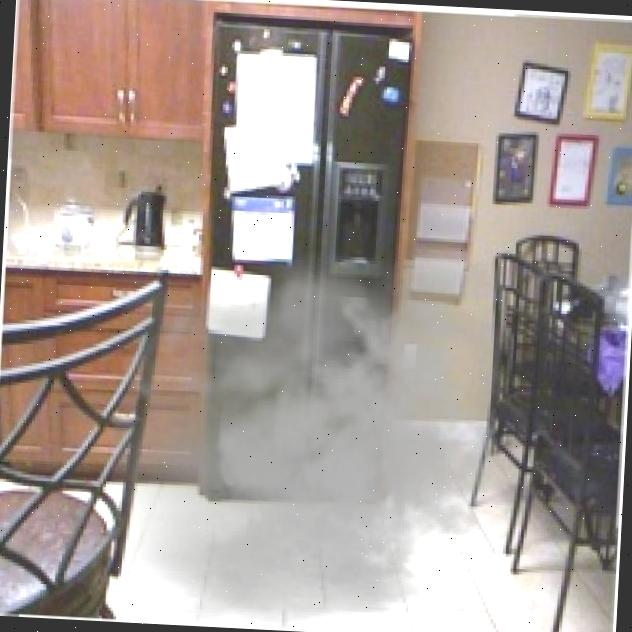smoke: (102, 242, 518, 632)
